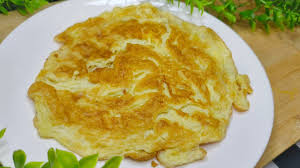Telur dadar: (27, 3, 253, 167)
